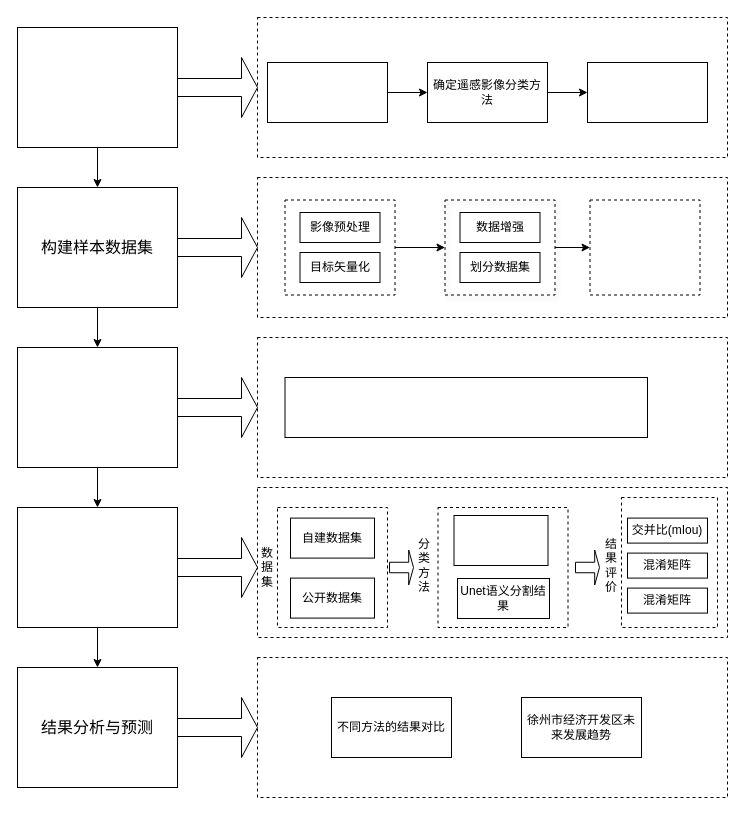
This 745x815 diagram has some shape labels left out. The centre of each missing label's shape, as x and y in pixels:
Unet语义分割模型: point 647,92
分类方法对比: point 97,567
参数调整(学习率，卷积核个数，网络深度): point 466,407
最大似然法分类结果: point 500,540
模型构建: point 97,407
确定模型基本架构: point 97,87
规范样本数据集: point 644,247
阅读国内外研究文献: point 327,92
